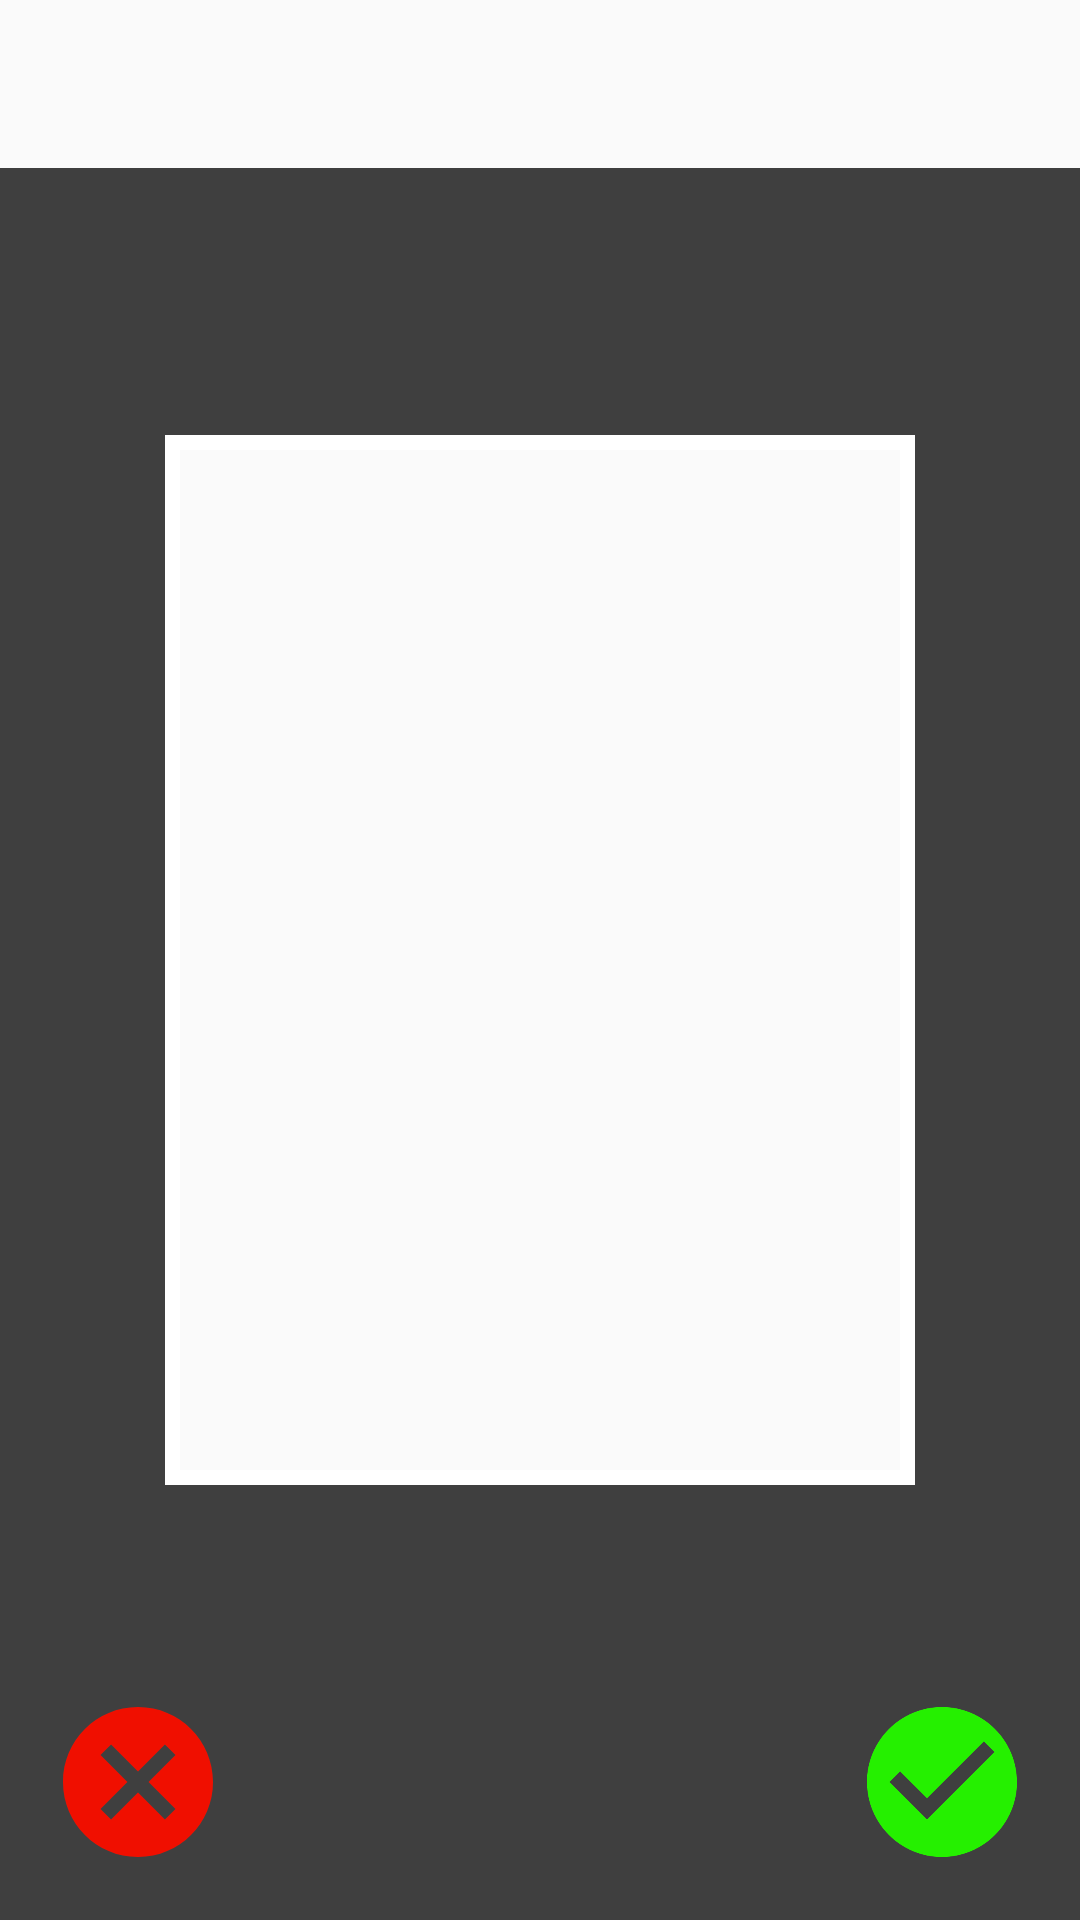

Screen size 1080px x 1920px. Icon name, then its center in pixels as (x,y):
cancel: (138,1782)
check circle: (942,1782)
